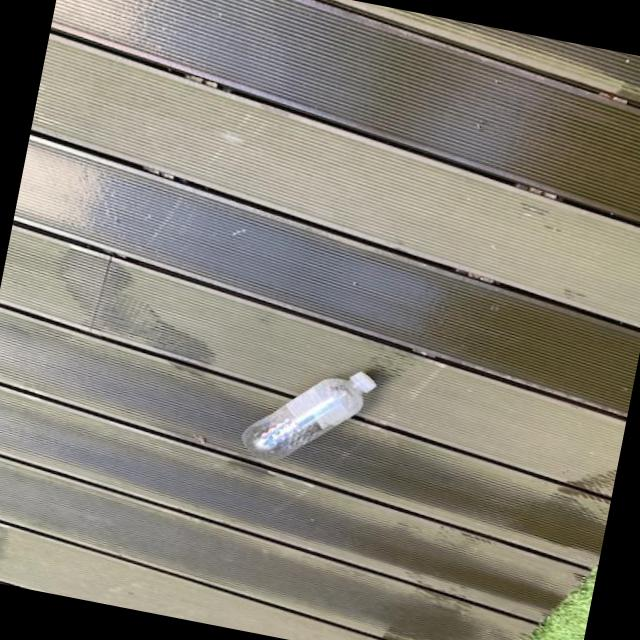plastic_bottle: (240, 350, 380, 476)
